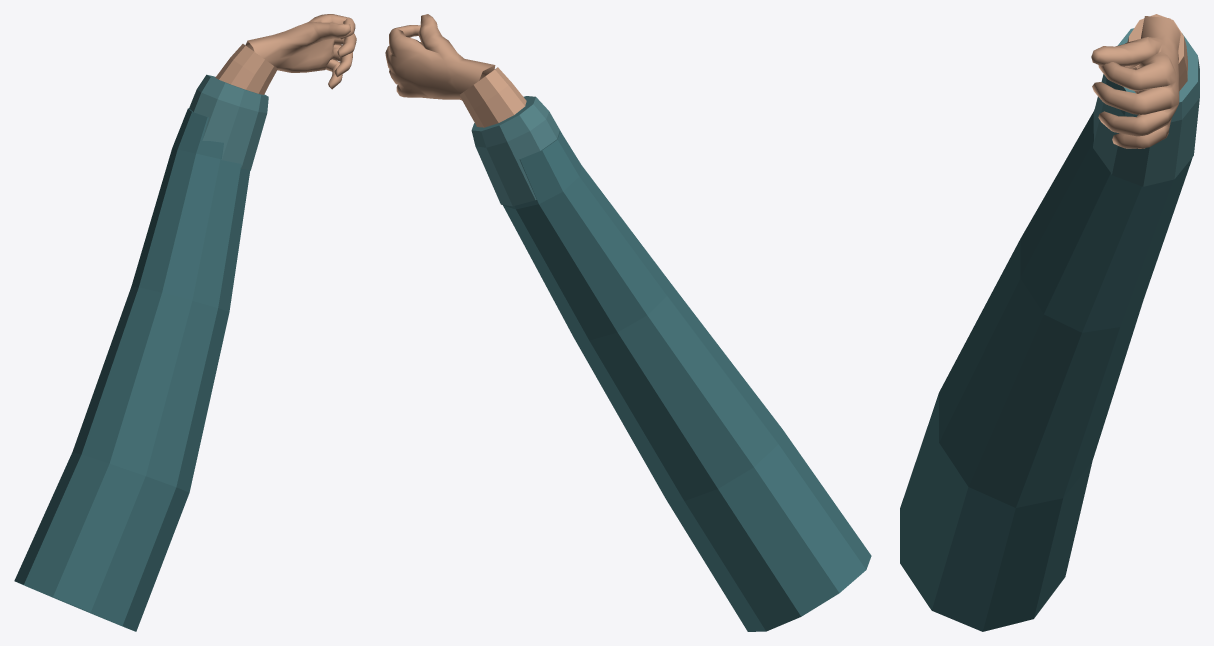
Rendered from left_coffee_hand.glb.
3 renders of one model, left to right at view 1: azimuth 30°, elevation 25°; view 2: azimuth 150°, elevation 25°; view 3: azimuth 270°, elevation 25°, orthographic. The views are drawn at different scales.
Visible parts, largest first — view 1: Tailored left sleeve, Anatomical_Left_Hand, Folded cuff, Exposed wrist; view 2: Tailored left sleeve, Anatomical_Left_Hand, Folded cuff, Exposed wrist; view 3: Tailored left sleeve, Anatomical_Left_Hand, Folded cuff, Exposed wrist.
Boxes of the visible parts, left/top/right/bottom form: Tailored left sleeve: left=14, top=108, right=250, bottom=631; Anatomical_Left_Hand: left=245, top=14, right=356, bottom=89; Folded cuff: left=189, top=74, right=268, bottom=170; Exposed wrist: left=215, top=44, right=277, bottom=94; Tailored left sleeve: left=503, top=131, right=871, bottom=631; Anatomical_Left_Hand: left=385, top=14, right=495, bottom=100; Folded cuff: left=471, top=96, right=560, bottom=206; Exposed wrist: left=460, top=67, right=526, bottom=127; Tailored left sleeve: left=900, top=109, right=1192, bottom=631; Anatomical_Left_Hand: left=1091, top=16, right=1180, bottom=148; Folded cuff: left=1093, top=28, right=1199, bottom=186; Exposed wrist: left=1127, top=14, right=1187, bottom=93.
Size of the model in its own units: 0.4023 by 0.5138 by 0.1812.
